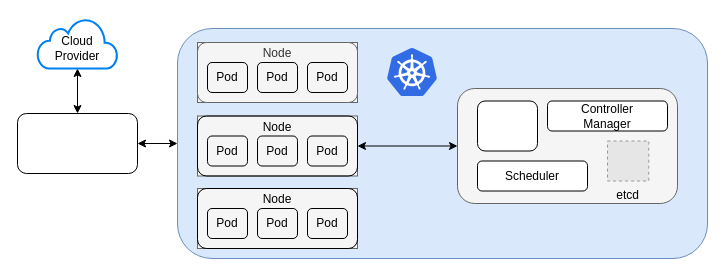
Image size: 725x276. Some labels were removed from this diagram. Grey dashed boxes stand in for pictures. Each missing label, with the centre of its shape:
"API Server" belongs at (507,125).
"Load Balancer" belongs at (77,143).
